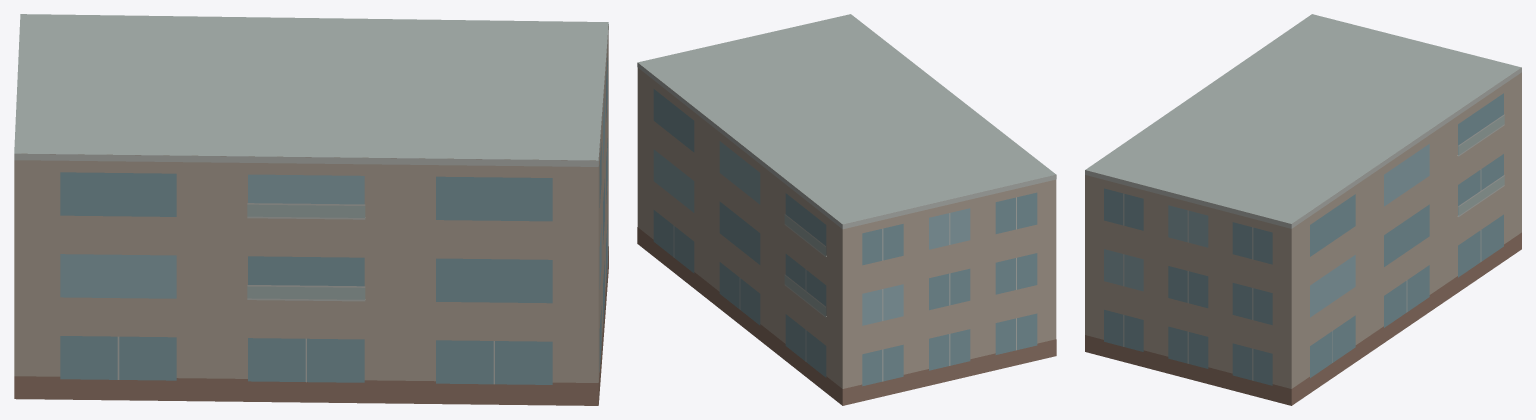
File: survey-upis-32525326.glb
The picture shows the model from 3 angles, left to right: view 1: azimuth 30°, elevation 25°; view 2: azimuth 150°, elevation 25°; view 3: azimuth 270°, elevation 25°; orthographic projection. The views are drawn at different scales.
Visible parts, largest first — view 1: survey-upis-32525326.tmp; view 2: survey-upis-32525326.tmp; view 3: survey-upis-32525326.tmp.
Part boxes in pixels (x1,y1,x2,y2): survey-upis-32525326.tmp: (14,14,608,405); survey-upis-32525326.tmp: (637,14,1056,405); survey-upis-32525326.tmp: (1085,14,1521,405).
Bounding box in the file's own units: 22.67 × 9.15 × 19.92.
